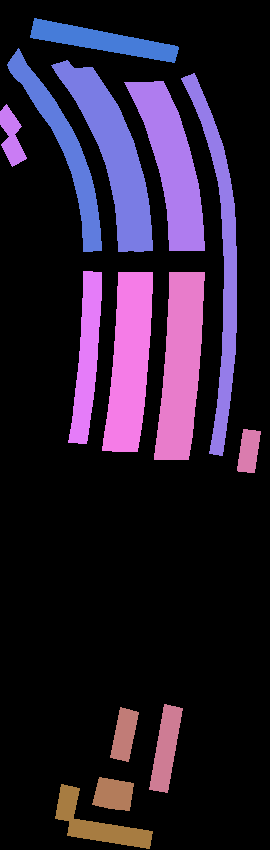parkingspot: (181, 73, 236, 455), (7, 48, 101, 251), (51, 60, 136, 251), (72, 67, 152, 251), (124, 82, 187, 250), (143, 81, 204, 250), (30, 18, 178, 62), (170, 272, 204, 459), (154, 272, 187, 459), (102, 272, 136, 451), (119, 272, 152, 451), (68, 271, 101, 443), (149, 704, 182, 792), (67, 818, 152, 848), (0, 104, 26, 166), (110, 707, 138, 761), (237, 429, 260, 472), (55, 784, 79, 821), (92, 777, 116, 808), (109, 780, 133, 810)
